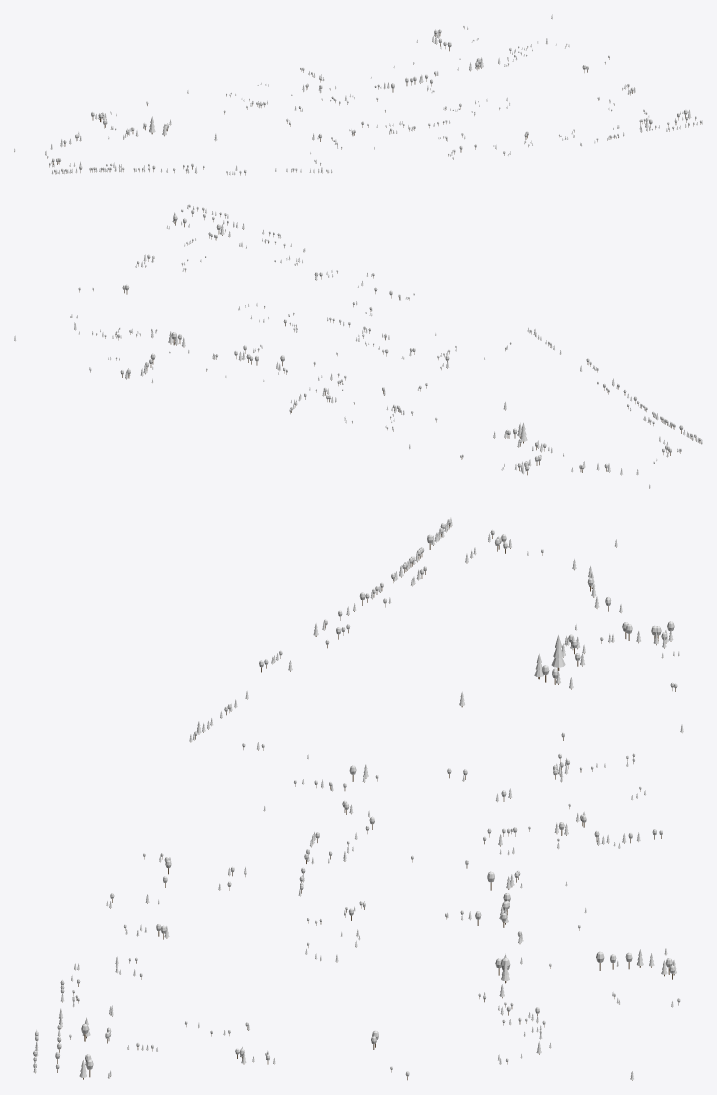
File: stromy.glb
The picture shows the model from 3 angles, top to bottom: view 1: azimuth 30°, elevation 25°; view 2: azimuth 150°, elevation 25°; view 3: azimuth 270°, elevation 25°; orthographic projection. The views are drawn at different scales.
Visible parts, largest first — view 1: Stromy_Listnate_02_02, Stromy_Ihlicnate_02_02; view 2: Stromy_Listnate_02_02, Stromy_Ihlicnate_02_02; view 3: Stromy_Listnate_02_02, Stromy_Ihlicnate_02_02.
Boxes of the visible parts, x1=… form: Stromy_Listnate_02_02: x1=47, y1=25, x2=701, y2=175; Stromy_Ihlicnate_02_02: x1=14, y1=14, x2=702, y2=174; Stromy_Listnate_02_02: x1=70, y1=204, x2=701, y2=475; Stromy_Ihlicnate_02_02: x1=14, y1=204, x2=702, y2=488; Stromy_Listnate_02_02: x1=33, y1=519, x2=680, y2=1080; Stromy_Ihlicnate_02_02: x1=33, y1=518, x2=683, y2=1080.
Size of the model in its own units: 788 by 27.88 by 406.
